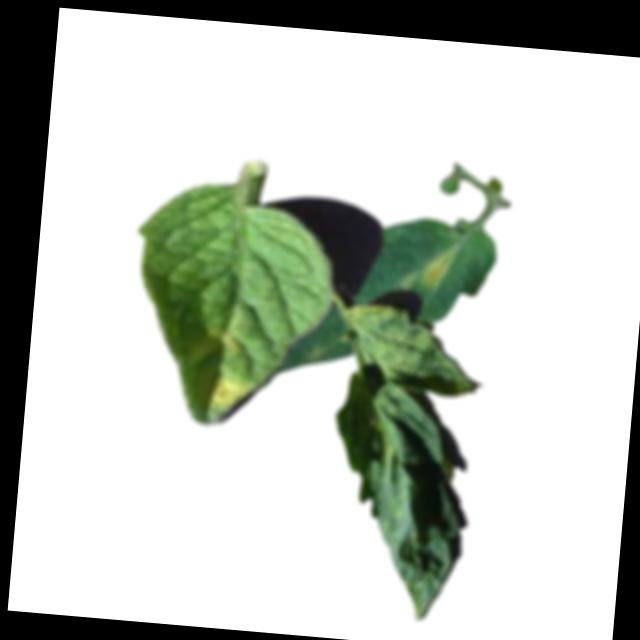Leaf_Mold: (210, 372, 256, 412), (420, 247, 458, 294)
